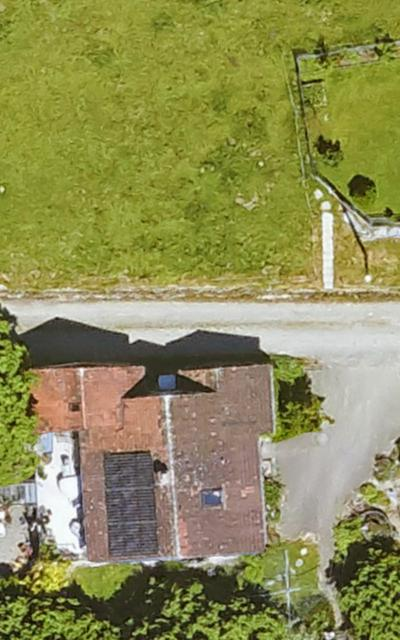tree: (128, 582, 290, 640), (1, 590, 123, 640), (0, 315, 35, 486), (341, 549, 400, 640), (278, 393, 321, 438)
